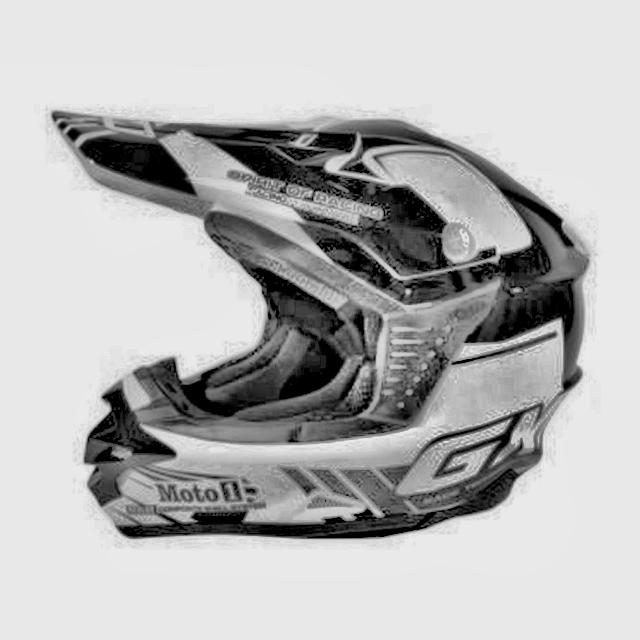Helmet: (43, 82, 604, 550)
